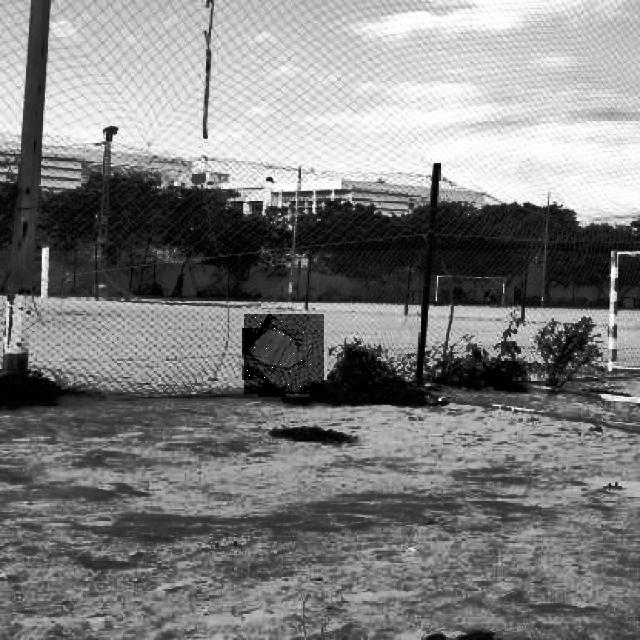anomaly-fence: (244, 314, 324, 394)
